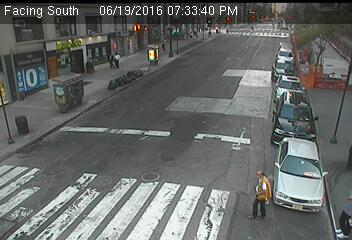neg: (8, 168, 37, 206), (137, 163, 163, 198), (164, 111, 189, 144), (19, 113, 43, 145), (111, 134, 135, 165), (80, 172, 103, 203), (63, 77, 83, 104), (234, 64, 254, 90), (203, 148, 222, 174), (200, 45, 219, 70), (177, 188, 195, 213), (280, 76, 298, 100), (314, 71, 331, 93), (28, 56, 44, 78), (282, 122, 298, 144), (143, 42, 159, 63), (80, 39, 95, 60), (120, 71, 135, 90)
pos: (242, 166, 283, 221)
